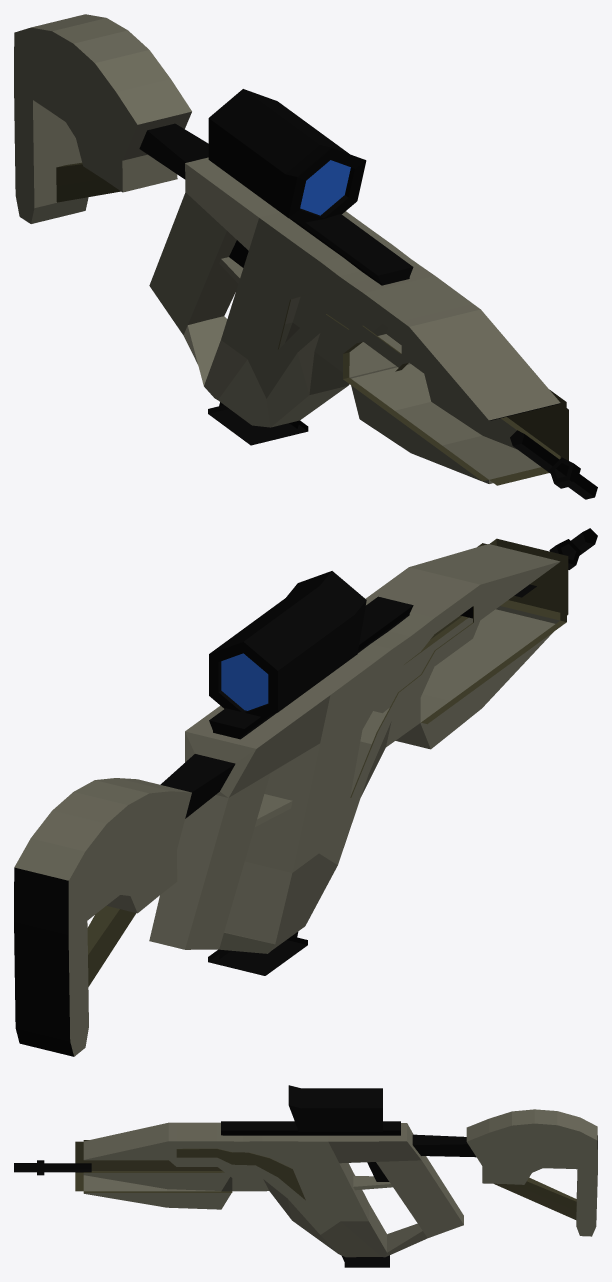
Rendered from gun.gltf.
The picture shows the model from 3 angles, top to bottom: view 1: azimuth 30°, elevation 25°; view 2: azimuth 150°, elevation 25°; view 3: azimuth 270°, elevation 25°; orthographic projection. The views are drawn at different scales.
Parts seen in each view (by area): view 1: Cylinder.001; view 2: Cylinder.001; view 3: Cylinder.001.
Part boxes in pixels (x1=…): Cylinder.001: x1=14, y1=14, x2=597, y2=499; Cylinder.001: x1=14, y1=528, x2=597, y2=1056; Cylinder.001: x1=14, y1=1085, x2=597, y2=1267.
Bounding box in the file's own units: 0.0639 × 0.2383 × 0.7203.
